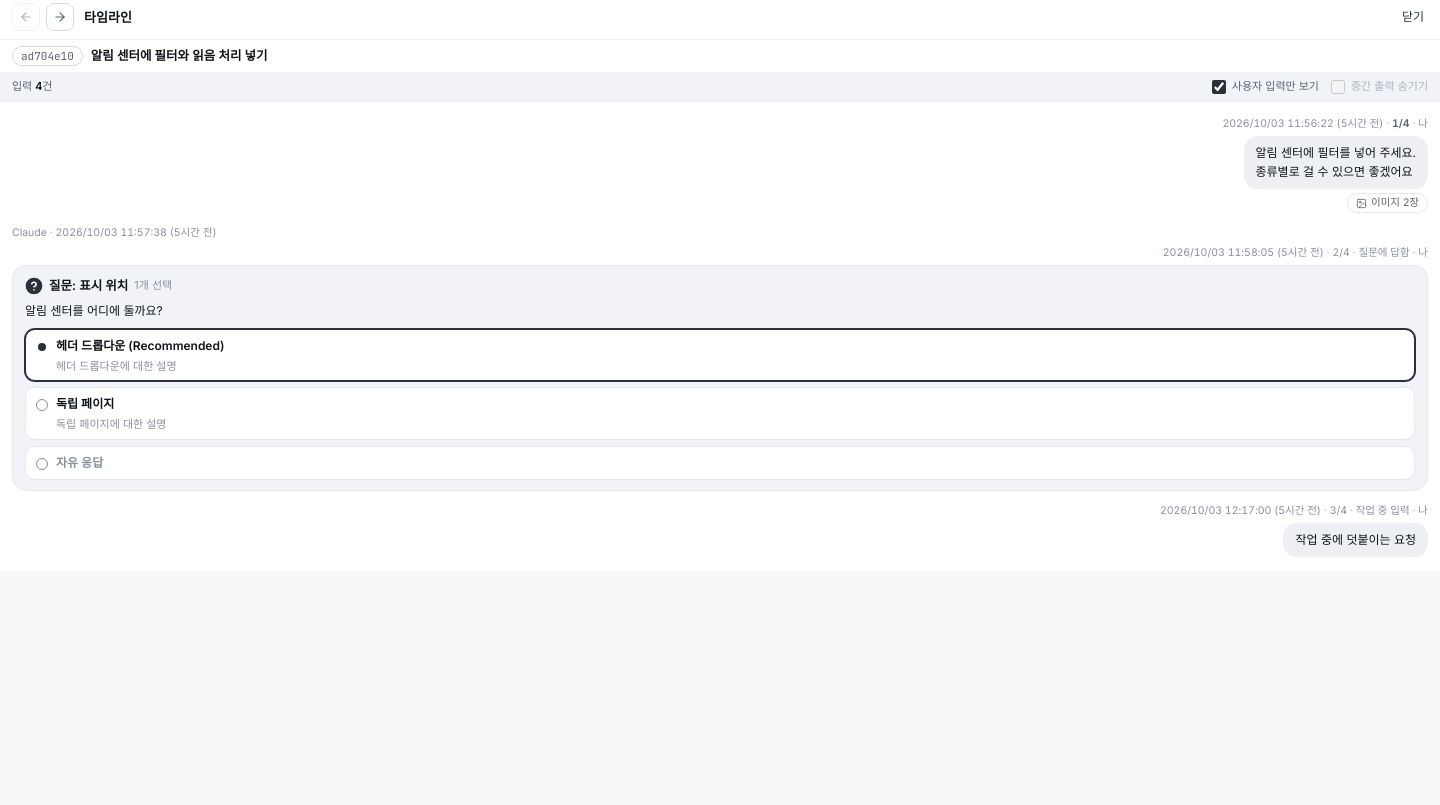
Test case: 두 토글 › 사용자 입력만 보기를 끄면 Claude의 출력, 질문 카드, 플랜, system 줄이 보인다
Click the checkbox labelled "사용자 입력만 보기".
click(1219, 87)  # box [1212, 80, 1226, 94]
(page scrolled)
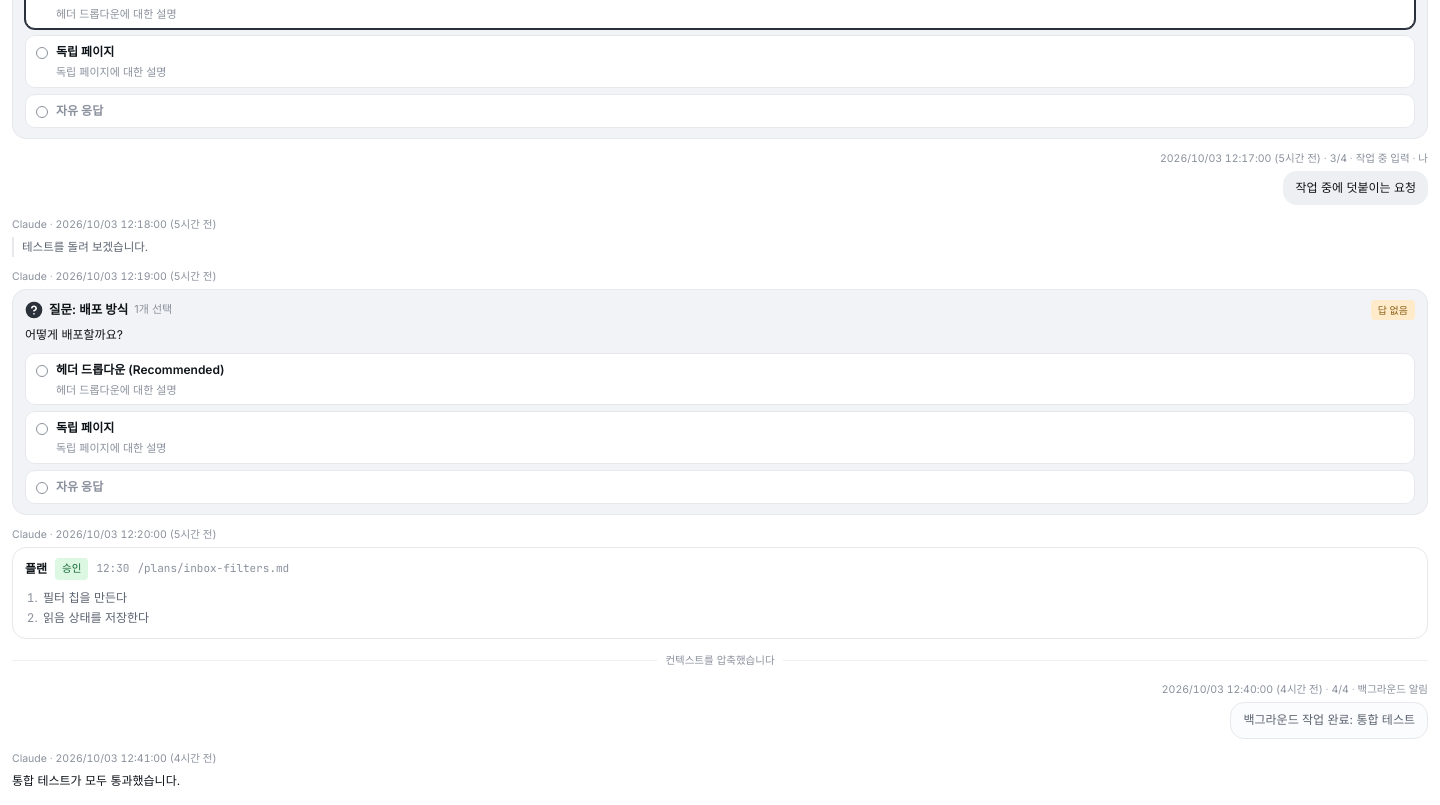
Expected: the text "통합 테스트가 모두 통과했습니다." is shown, [12, 773, 180, 788]
Expected: the text "컨텍스트를 압축했습니다" is shown, [665, 653, 775, 668]
Expected: the text "답 없음" is shown, [1378, 302, 1408, 318]
